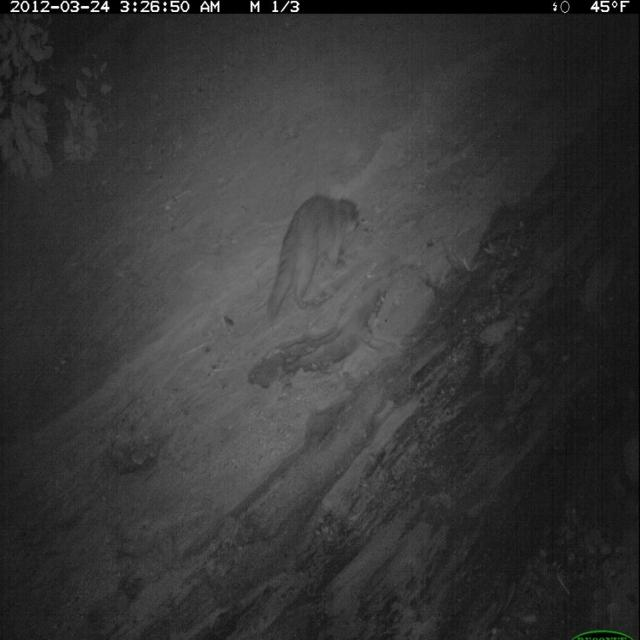raccoon: (265, 189, 364, 328)
